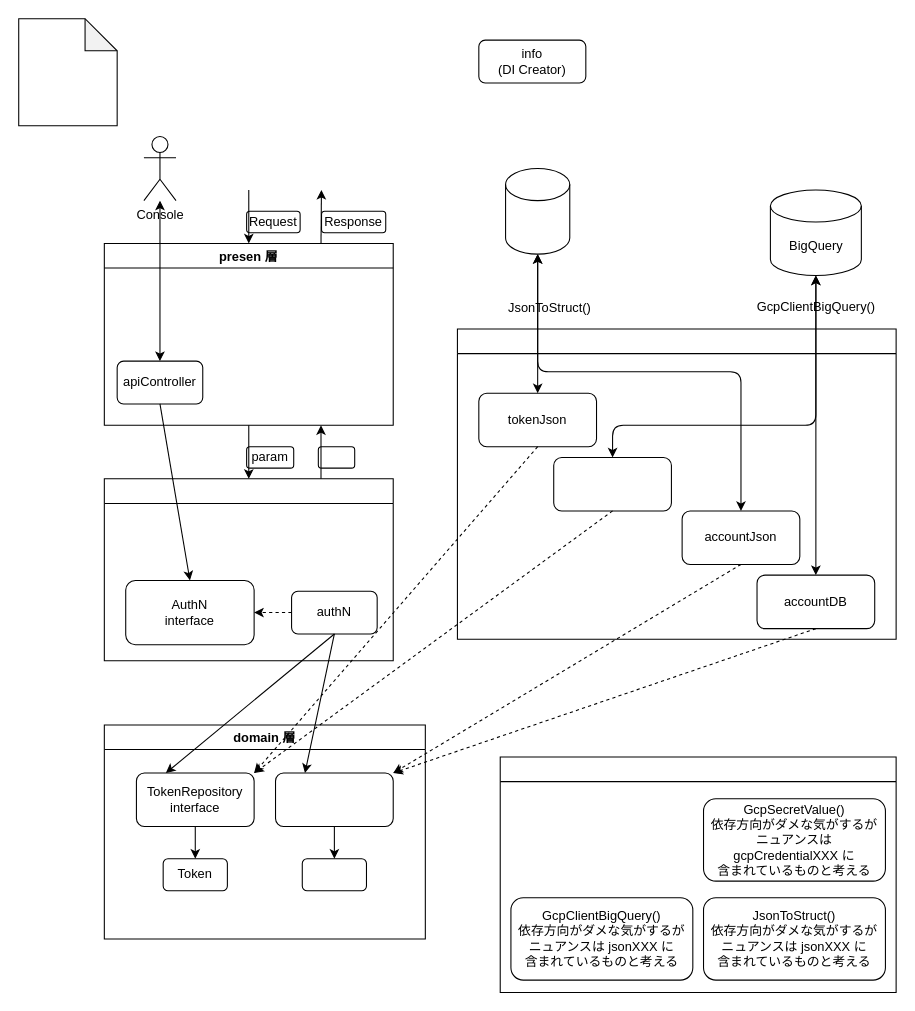
Image size: 915x1011. Some labels were removed from this diagram. The box of each missing label's shape, as (x1, y1, x2, y2) in pixels:
Account: (301, 858, 366, 891)
AccountRepository interface: (274, 772, 393, 827)
dto: (317, 446, 355, 468)
infra 層: (456, 328, 896, 639)
JSON: (505, 167, 570, 254)
Service : info Context : authN: (18, 18, 117, 126)
Share(環境変数的な概念として infra 層にある): (499, 756, 896, 992)
tokenDB: (553, 456, 671, 511)
usecase 層: (103, 478, 393, 661)
